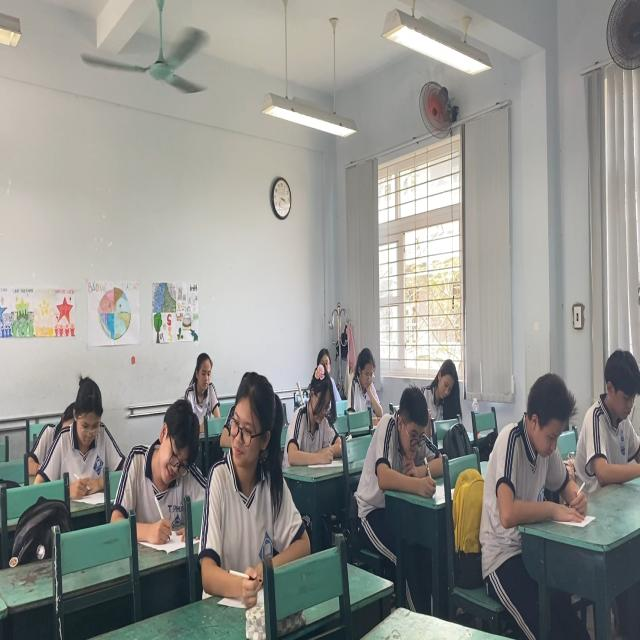cheating: (216, 360, 292, 578)
not_cheating: (498, 360, 590, 516), (118, 392, 205, 520), (581, 337, 640, 499), (370, 381, 436, 499), (58, 377, 115, 499), (286, 364, 343, 468), (341, 330, 381, 423), (181, 347, 224, 422), (424, 350, 465, 420)
